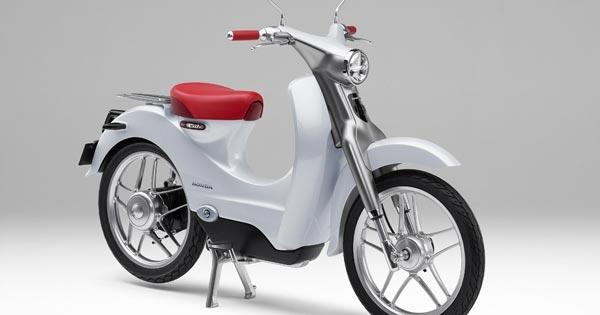motorcycle: (80, 30, 486, 315)
